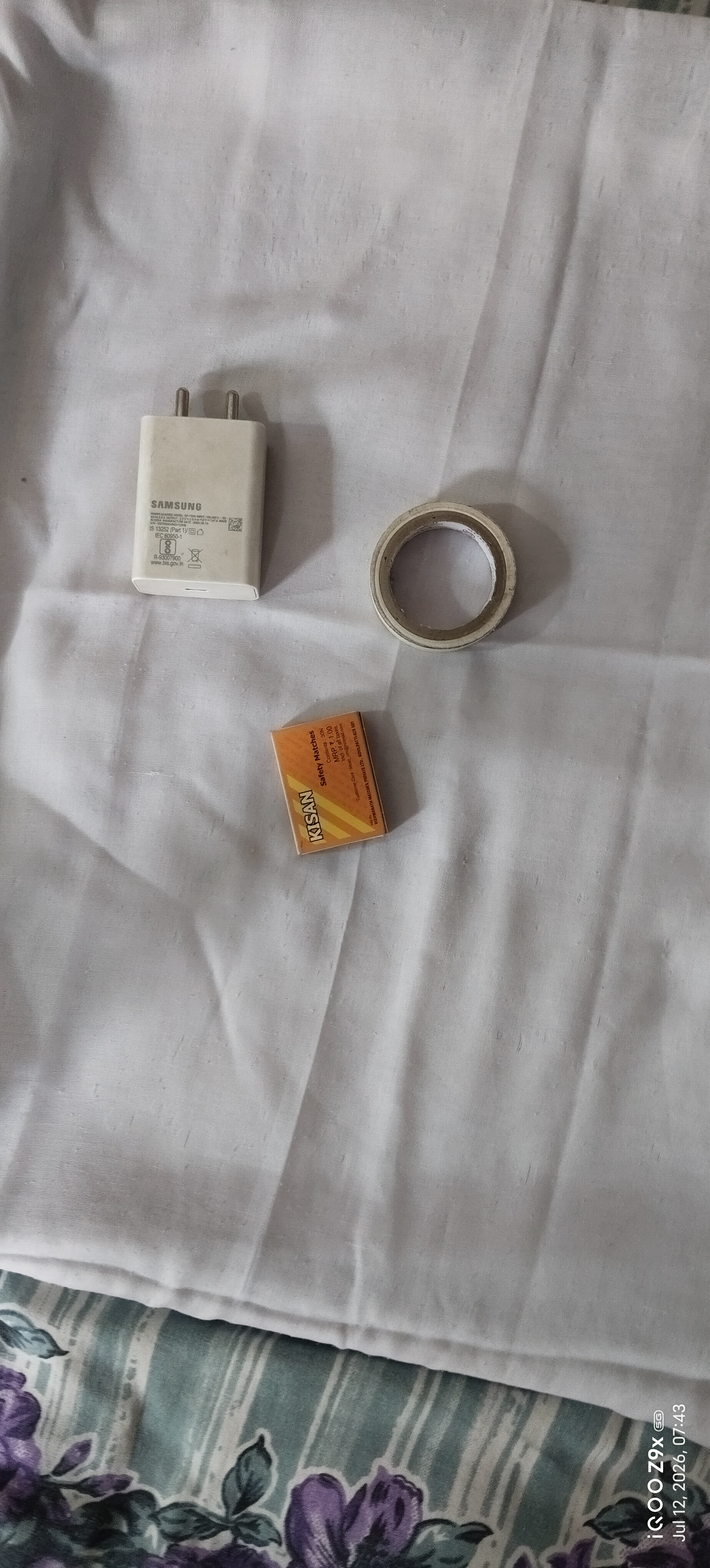charger: (99, 348, 298, 632)
matchbox: (235, 698, 438, 867)
tape_roll: (348, 464, 556, 675)
